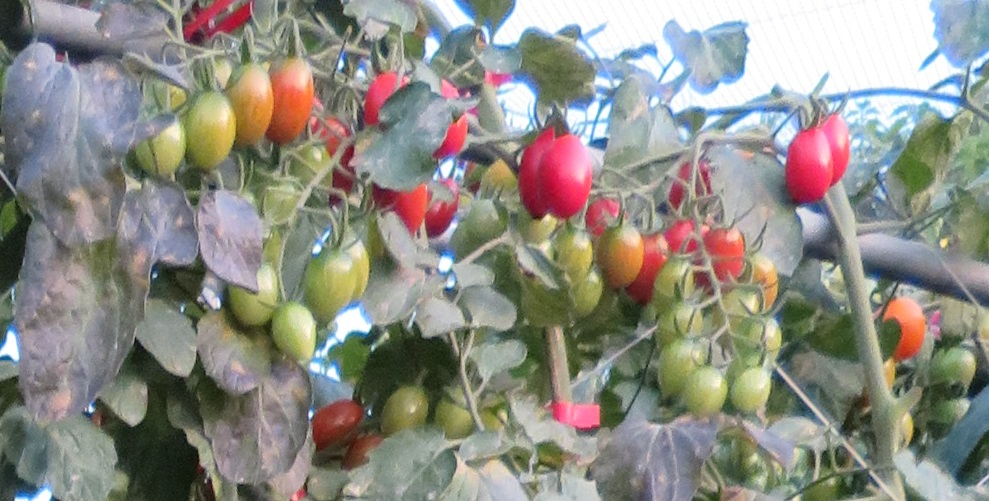green: (189, 94, 234, 173), (302, 251, 353, 318), (136, 114, 185, 177), (601, 222, 647, 286), (229, 264, 277, 325), (375, 384, 431, 432), (274, 300, 316, 364), (546, 230, 590, 285), (730, 367, 778, 416), (682, 366, 728, 417), (657, 334, 716, 372)
orange: (275, 48, 314, 147), (234, 62, 273, 151), (882, 300, 933, 361)
red: (537, 135, 593, 218), (785, 128, 832, 206)
